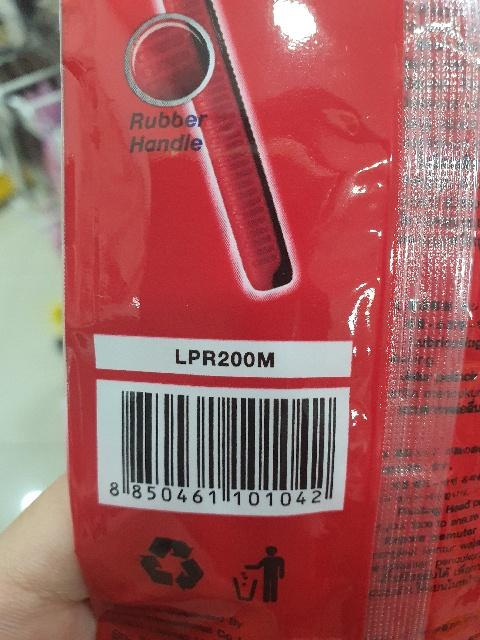Barcode: (98, 387, 349, 515)
